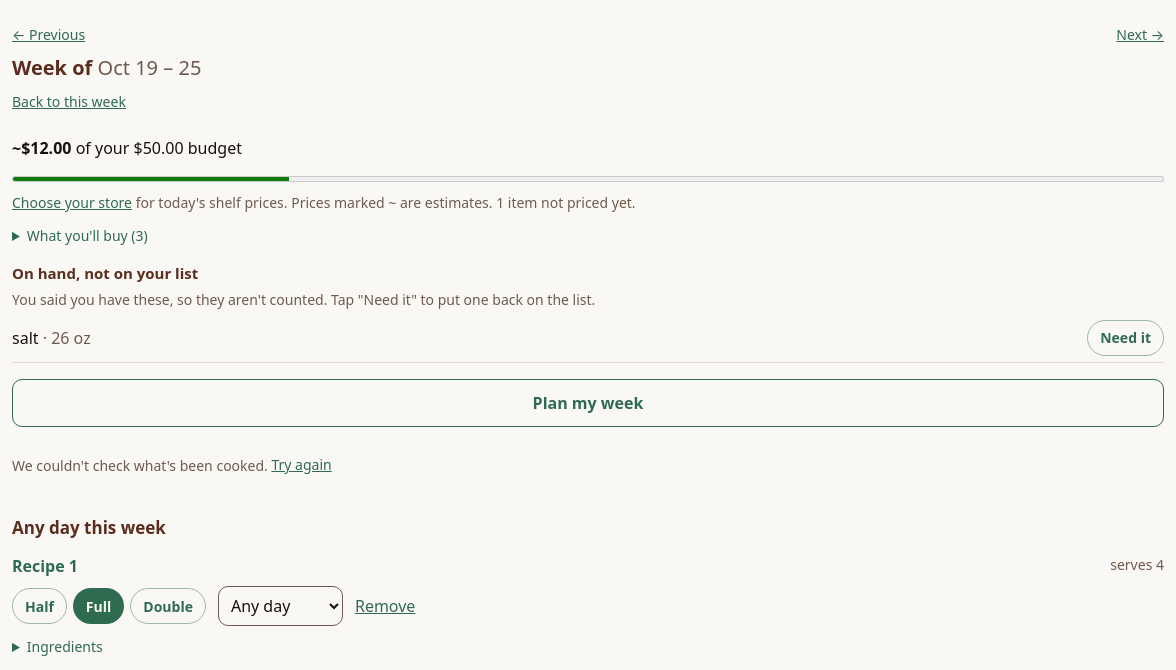
Scenario: a week that’s over (TYL-68) › offers nothing while it can’t tell what was cooked
The width and height of the screenshot is (1176, 670).
Expected: the text "We couldn't check what's been cooked. Try again" is shown, [12,442,332,486]
Expected: the button "Move to this week" is not shown
# Trying again loads it.
Click the button "Try again" at (302, 464), box [272,442,332,486]
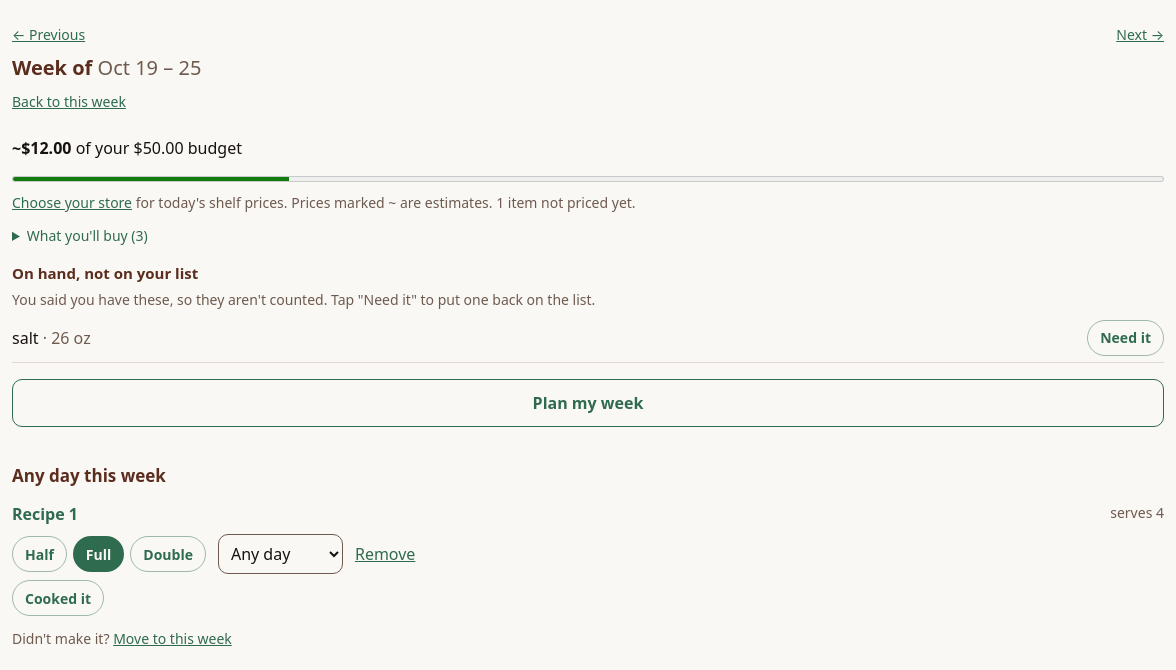
Result: the button "Move to this week" is shown at [113,616,232,660]
